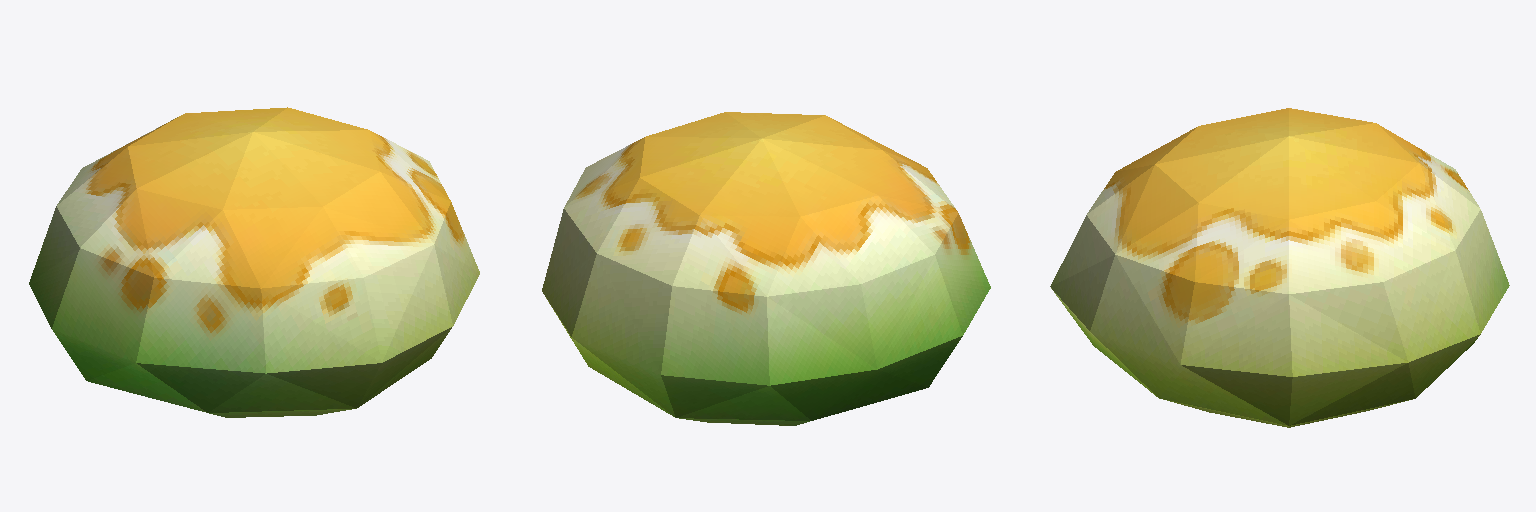
The picture shows the model from 3 angles: view 1: azimuth 30°, elevation 25°; view 2: azimuth 150°, elevation 25°; view 3: azimuth 270°, elevation 25°; orthographic projection.
Visible parts, largest first — view 1: White_Mushroom_2; view 2: White_Mushroom_2; view 3: White_Mushroom_2.
Part boxes in pixels (x1,y1,x2,y2): White_Mushroom_2: (29, 107, 479, 417); White_Mushroom_2: (542, 112, 990, 425); White_Mushroom_2: (1050, 108, 1509, 427).
Size of the model in its own units: 11.42 by 6.58 by 11.37.
Materials: 1 (1 with a texture image).